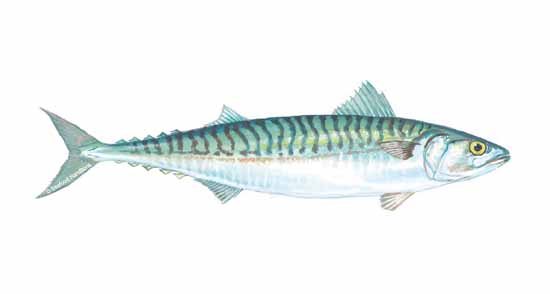Mackerel: (34, 75, 512, 215)
